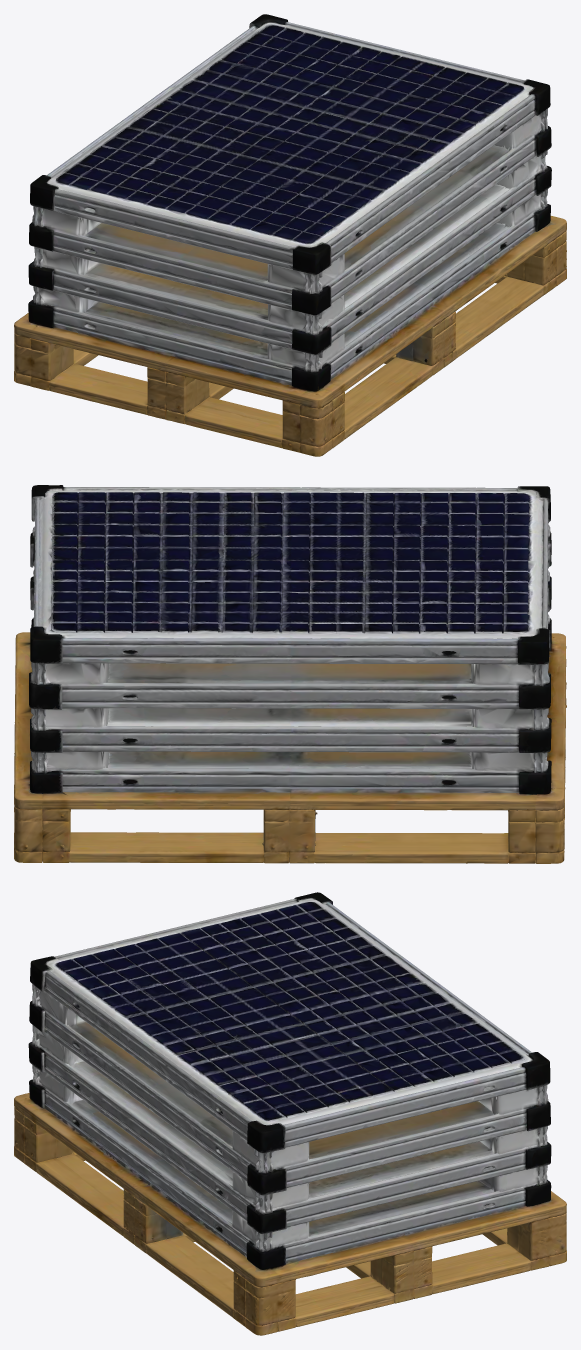
The model's file is pallet.glb.
3 views of the same model, one above another, from view 1: azimuth 30°, elevation 25°; view 2: azimuth 150°, elevation 25°; view 3: azimuth 270°, elevation 25° (orthographic). The views are drawn at different scales.
Visible parts, largest first — view 1: tripo_node_6e7997d0-73da-4d43-a131-0ec6786a5c37; view 2: tripo_node_6e7997d0-73da-4d43-a131-0ec6786a5c37; view 3: tripo_node_6e7997d0-73da-4d43-a131-0ec6786a5c37.
Part boxes in pixels (x1=…): tripo_node_6e7997d0-73da-4d43-a131-0ec6786a5c37: x1=14, y1=14, x2=566, y2=456; tripo_node_6e7997d0-73da-4d43-a131-0ec6786a5c37: x1=14, y1=485, x2=566, y2=863; tripo_node_6e7997d0-73da-4d43-a131-0ec6786a5c37: x1=14, y1=892, x2=566, y2=1335.
Size of the model in its own units: 38698 by 13953 by 35397.
Materials: 1 (1 with a texture image).
